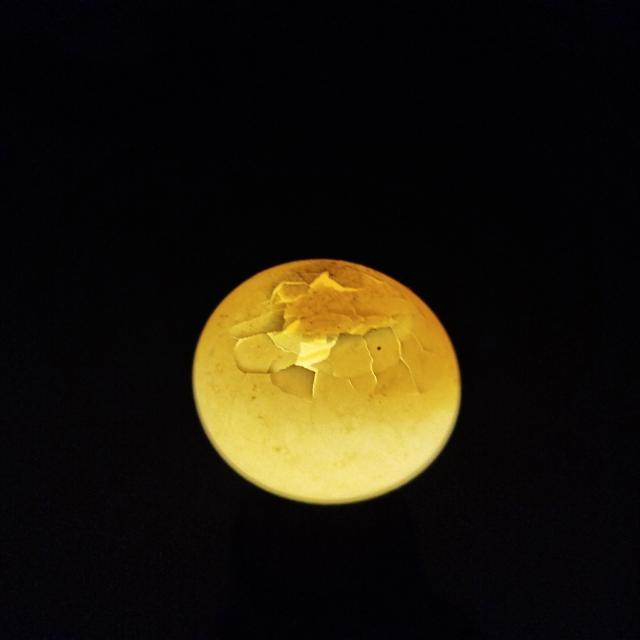Rachadura: (222, 267, 435, 405)
